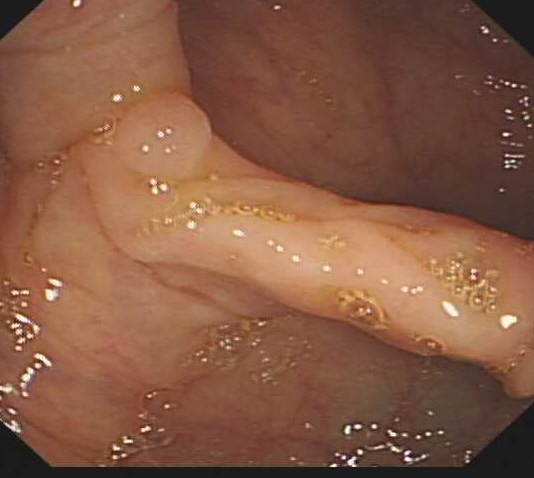adenoma: (116, 90, 214, 183)
